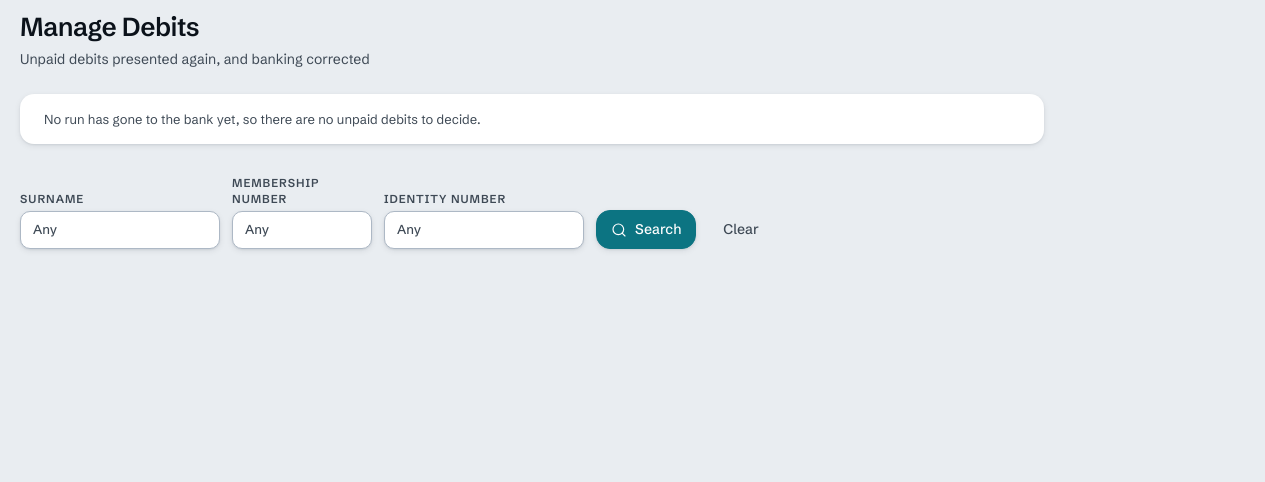
Test: AcbDebits, choosing a member › does not open the register row as the record when the record will not load
Type "Testperson" into the field labelled "Surname". click: {"x": 120, "y": 230}
box: [20,211,220,249]
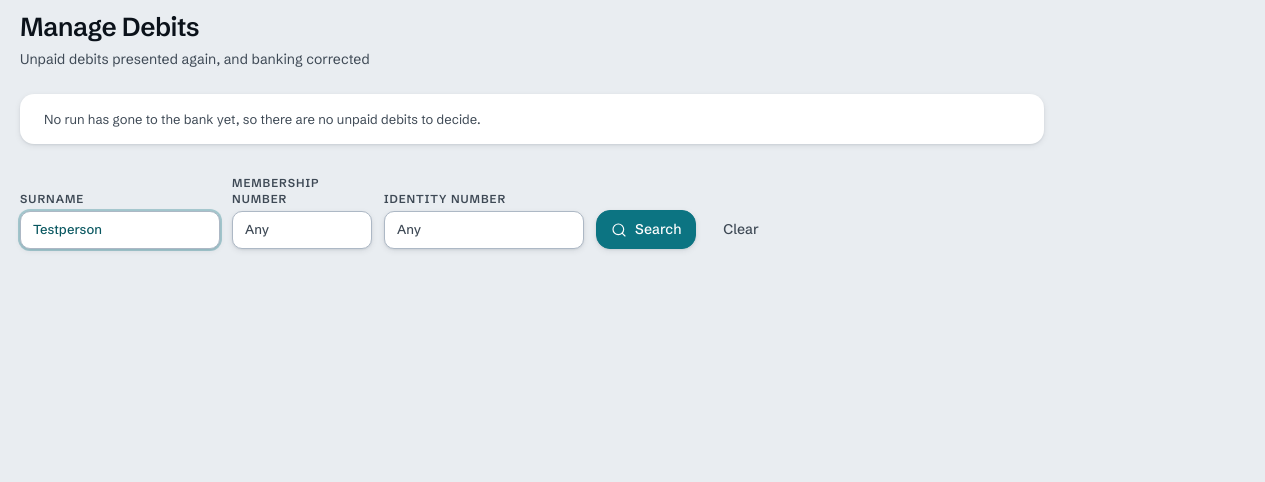
Click the button "Search". click: {"x": 646, "y": 230}
box: [596,210,696,249]
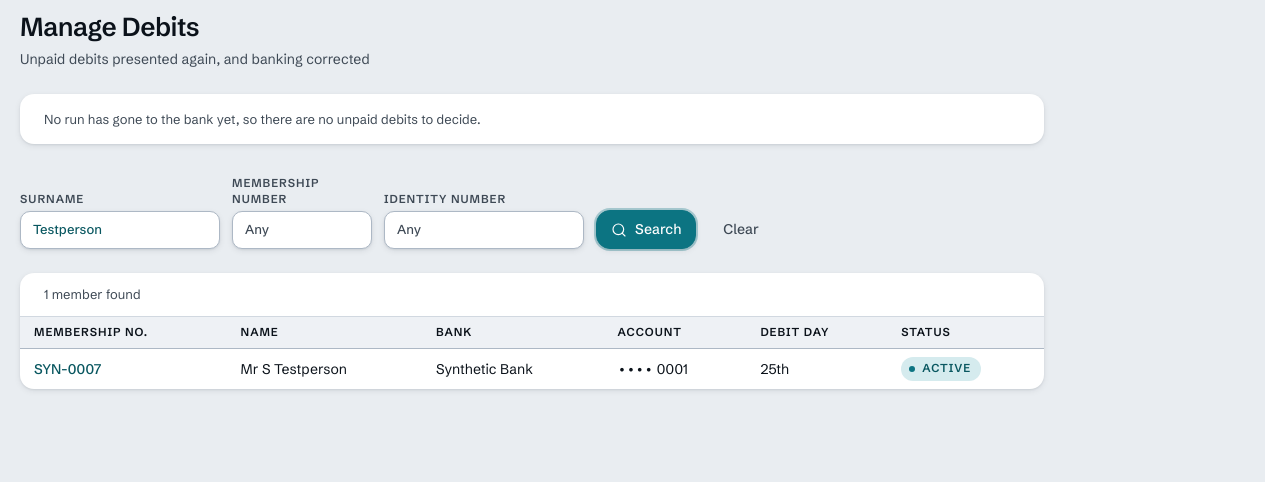
Click the button with aria-label "load banking details". click: {"x": 68, "y": 369}
box: [34,358,101,380]
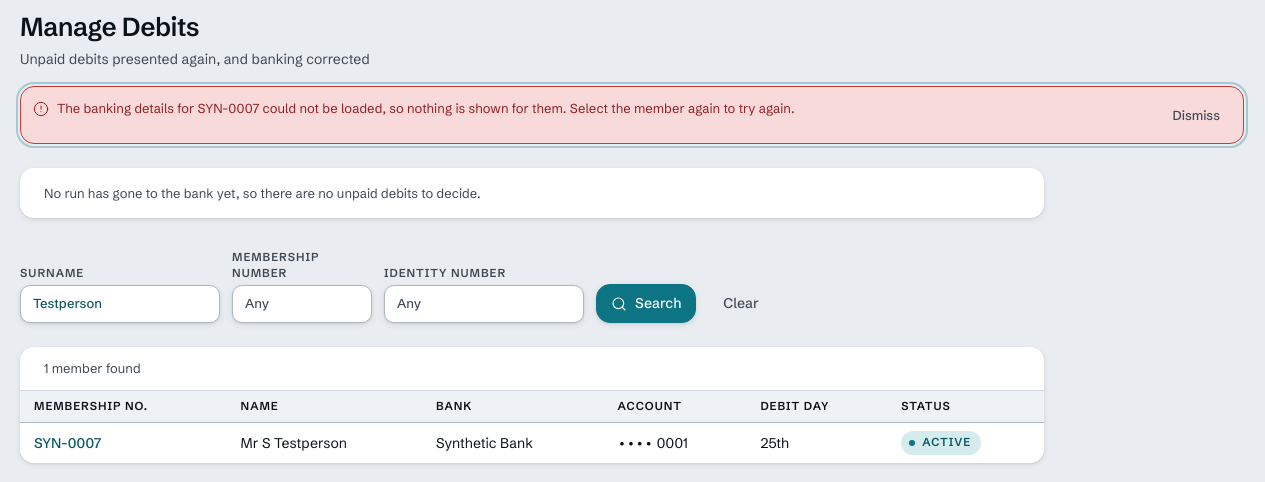
Result: the text "banking details for SYN-0007 could not be loaded" is shown at [57,100,795,116]
